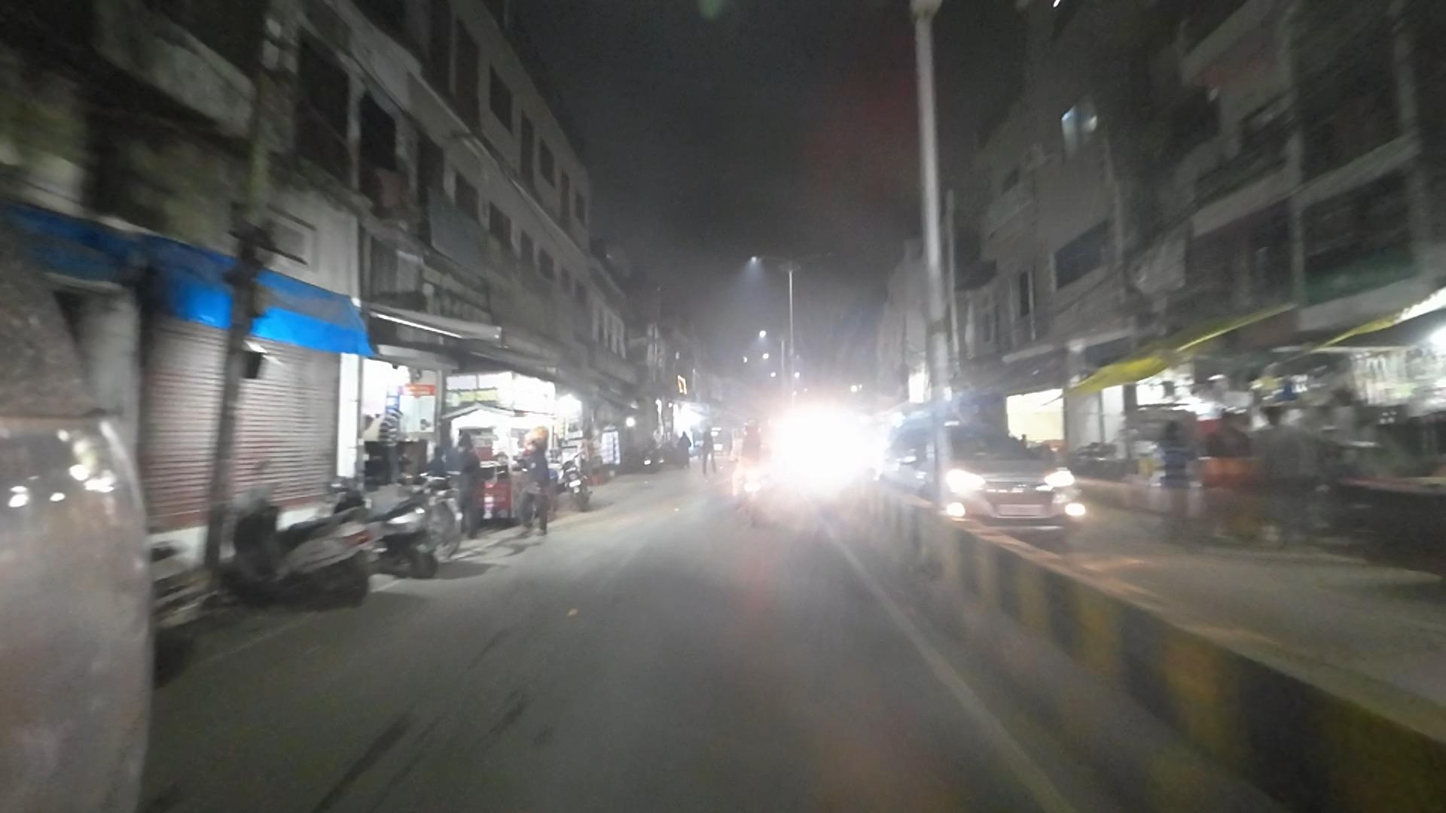streetlight: (802, 251, 833, 261)
